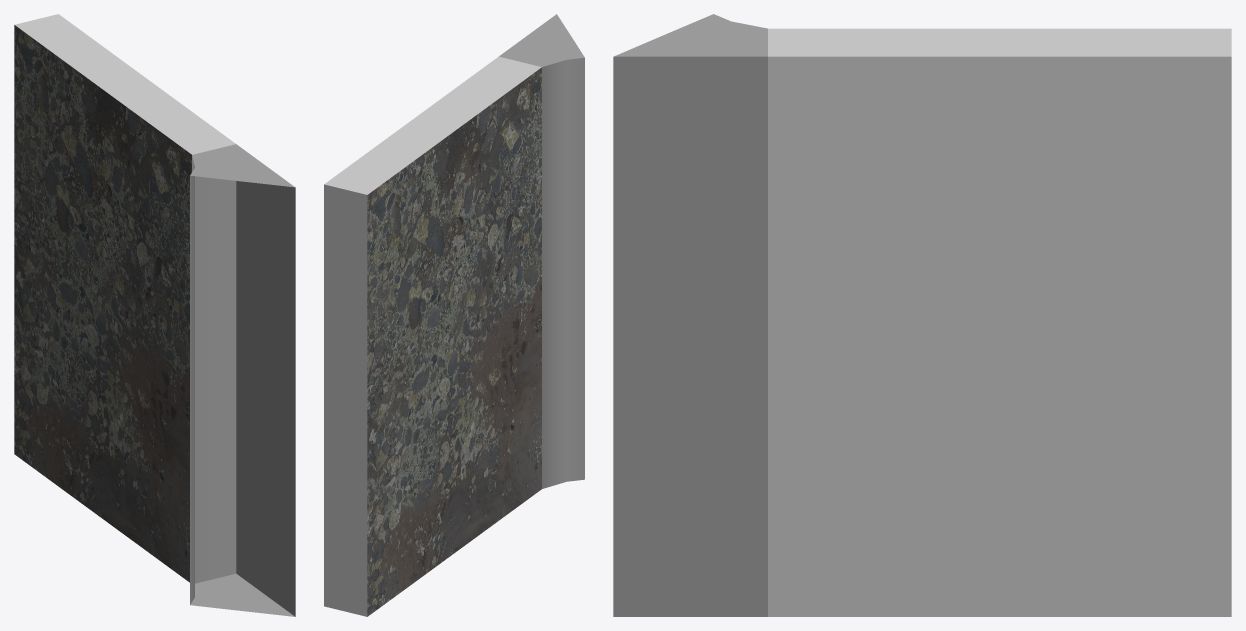
The model's file is tileC_scale.fbx.
3 renders of one model, left to right at view 1: azimuth 30°, elevation 25°; view 2: azimuth 150°, elevation 25°; view 3: azimuth 270°, elevation 25°, orthographic. The views are drawn at different scales.
Parts seen in each view (by area): view 1: wall_tile3; view 2: wall_tile3; view 3: wall_tile3.
Part boxes in pixels (left/top/right/bottom): wall_tile3: left=14, top=14, right=295, bottom=616; wall_tile3: left=324, top=14, right=584, bottom=616; wall_tile3: left=613, top=14, right=1231, bottom=616.
Size of the model in its own units: 0.9804 by 6 by 6.
